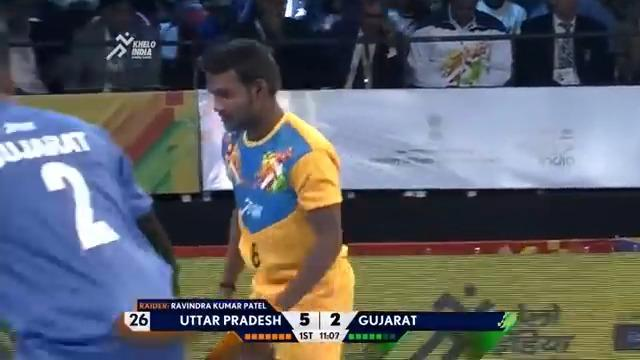Raider: (198, 37, 356, 358)
referee: (0, 25, 182, 359), (506, 0, 616, 86), (339, 0, 410, 88)
